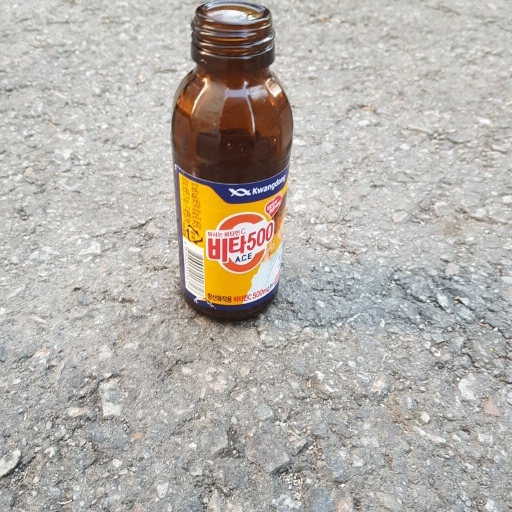Glass_3: (166, 1, 300, 321)
